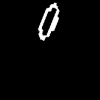chain: (39, 3, 58, 39)
